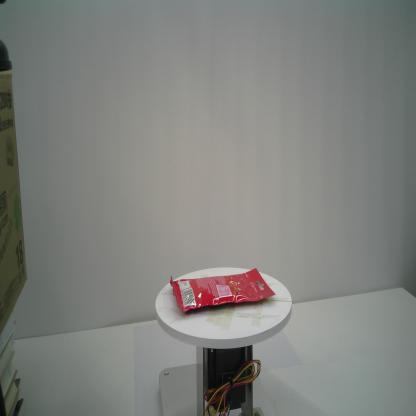Candy: (169, 267, 276, 313)
